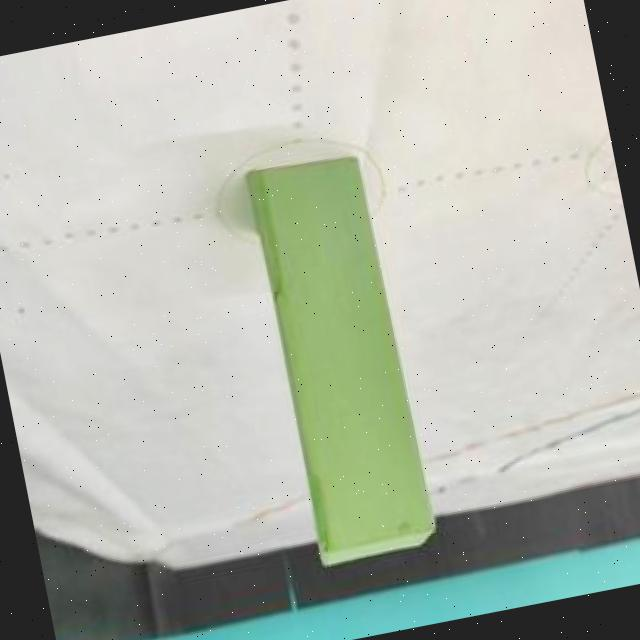greenbox: (242, 150, 439, 571)
